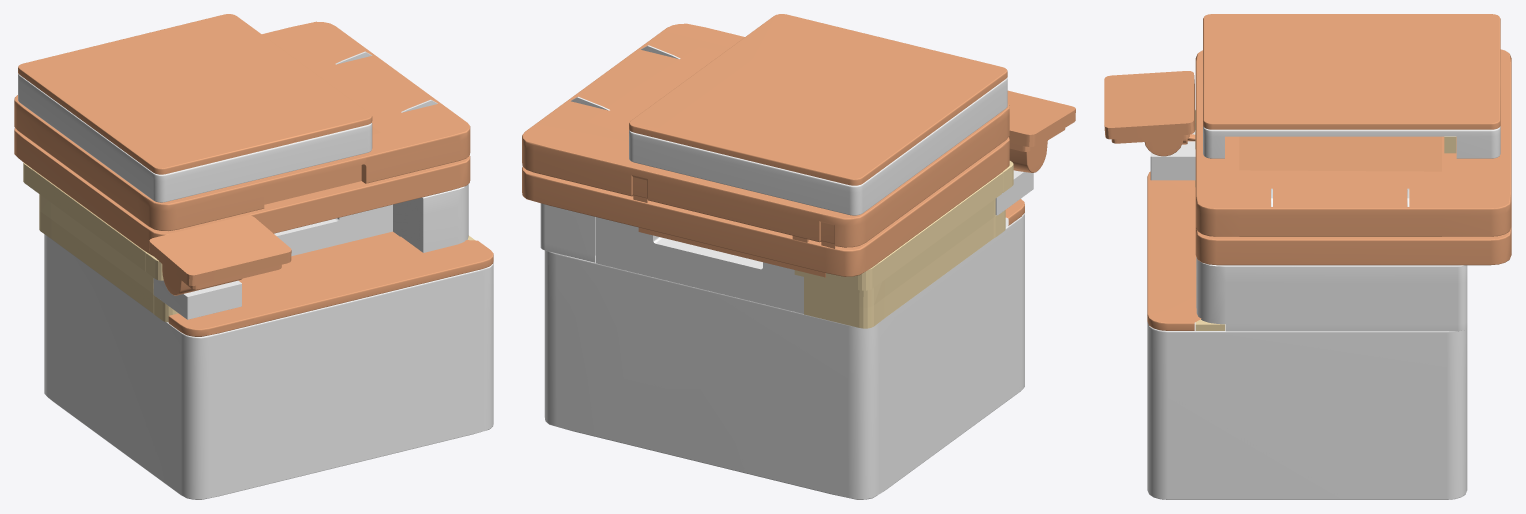
File: Printer.fbx
The picture shows the model from 3 angles, left to right: view 1: azimuth 30°, elevation 25°; view 2: azimuth 150°, elevation 25°; view 3: azimuth 270°, elevation 25°; orthographic projection. The views are drawn at different scales.
Visible parts, largest first — view 1: canon_printer:pCube17, canon_printer:polySurface3, canon_printer:polySurface5, canon_printer:pCube16, canon_printer:polySurface4, canon_printer:groupgroup, canon_printer:pCube11, canon_printer:pCube9, canon_printer:group1, canon_printer:pCube4, canon_printer:pCube10, canon_printer:pCylind; view 2: canon_printer:pCube17, canon_printer:polySurface3, canon_printer:polySurface5, canon_printer:polySurface4, canon_printer:groupgroup, canon_printer:pCube11, canon_printer:pCube4, canon_printer:pCube9, canon_printer:group1, canon_printer:pCube10, canon_printer:pCylind; view 3: canon_printer:pCube17, canon_printer:polySurface3, canon_printer:polySurface5, canon_printer:group1, canon_printer:polySurface4, canon_printer:pCube16, canon_printer:pCube9, canon_printer:groupgroup, canon_printer:pCube10, canon_printer:pCylind.
Boxes of the visible parts, bbox=[...] form: canon_printer:pCube17: bbox=[44, 234, 493, 499]; canon_printer:polySurface3: bbox=[18, 14, 372, 174]; canon_printer:polySurface5: bbox=[14, 21, 470, 230]; canon_printer:pCube16: bbox=[168, 231, 493, 336]; canon_printer:polySurface4: bbox=[14, 128, 470, 256]; canon_printer:groupgroup: bbox=[18, 74, 372, 202]; canon_printer:pCube11: bbox=[23, 162, 178, 322]; canon_printer:pCube9: bbox=[149, 215, 291, 289]; canon_printer:group1: bbox=[393, 184, 468, 252]; canon_printer:pCube4: bbox=[274, 204, 392, 256]; canon_printer:pCube10: bbox=[153, 278, 241, 319]; canon_printer:pCylind: bbox=[162, 264, 241, 295]; canon_printer:pCube17: bbox=[544, 213, 1024, 499]; canon_printer:polySurface3: bbox=[629, 14, 1007, 185]; canon_printer:polySurface5: bbox=[522, 23, 1009, 248]; canon_printer:polySurface4: bbox=[522, 137, 1009, 277]; canon_printer:groupgroup: bbox=[629, 78, 1007, 215]; canon_printer:pCube11: bbox=[794, 161, 1013, 328]; canon_printer:pCube4: bbox=[595, 217, 803, 313]; canon_printer:pCube9: bbox=[1007, 90, 1075, 151]; canon_printer:group1: bbox=[540, 203, 595, 262]; canon_printer:pCube10: bbox=[995, 170, 1033, 215]; canon_printer:pCylind: bbox=[1009, 140, 1047, 172]; canon_printer:pCube17: bbox=[1147, 322, 1467, 499]; canon_printer:polySurface3: bbox=[1203, 14, 1500, 129]; canon_printer:polySurface5: bbox=[1195, 49, 1511, 236]; canon_printer:group1: bbox=[1196, 257, 1467, 331]; canon_printer:polySurface4: bbox=[1195, 227, 1511, 265]; canon_printer:pCube16: bbox=[1147, 171, 1201, 330]; canon_printer:pCube9: bbox=[1104, 71, 1194, 143]; canon_printer:groupgroup: bbox=[1203, 126, 1500, 158]; canon_printer:pCube10: bbox=[1150, 130, 1195, 180]; canon_printer:pCylind: bbox=[1144, 134, 1195, 156].
Bounding box in the file's own units: 28.96 × 26.31 × 29.69.
